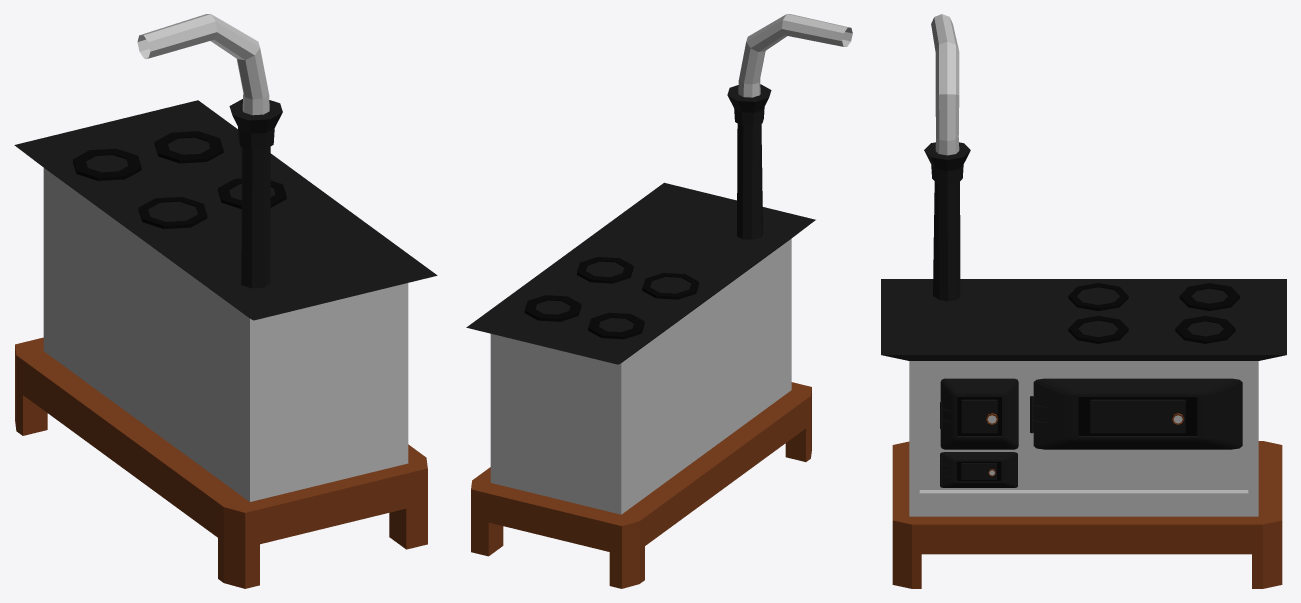
The model's file is Stove_scaled.fbx.
3 views of the same model, side by side, from view 1: azimuth 30°, elevation 25°; view 2: azimuth 150°, elevation 25°; view 3: azimuth 270°, elevation 25° (orthographic). The views are drawn at different scales.
Visible parts, largest first — view 1: Cylinder.004; view 2: Cylinder.004; view 3: Cylinder.004.
Part boxes in pixels (x1,y1,x2,y2): Cylinder.004: (14, 14, 437, 588); Cylinder.004: (466, 14, 852, 588); Cylinder.004: (881, 14, 1286, 588).
Size of the model in its own units: 55.68 by 111 by 87.2.
